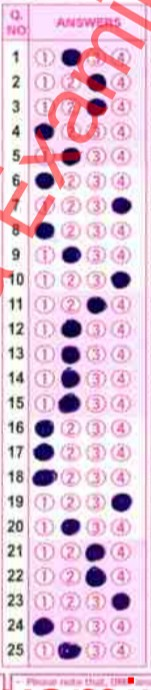filled circles: (58, 393, 80, 413), (85, 566, 106, 586), (33, 469, 57, 486), (111, 493, 132, 512), (58, 642, 81, 659), (33, 617, 53, 635), (85, 543, 105, 561), (61, 319, 81, 337), (61, 367, 79, 387), (87, 98, 106, 116), (62, 246, 81, 264), (111, 592, 130, 610), (33, 443, 53, 460), (62, 147, 80, 165), (61, 346, 79, 364), (35, 419, 53, 437), (87, 296, 106, 313), (61, 518, 80, 535), (35, 222, 54, 239), (111, 271, 130, 288), (62, 48, 80, 65), (87, 73, 105, 90), (34, 123, 53, 139), (112, 197, 131, 213), (35, 172, 53, 188)
